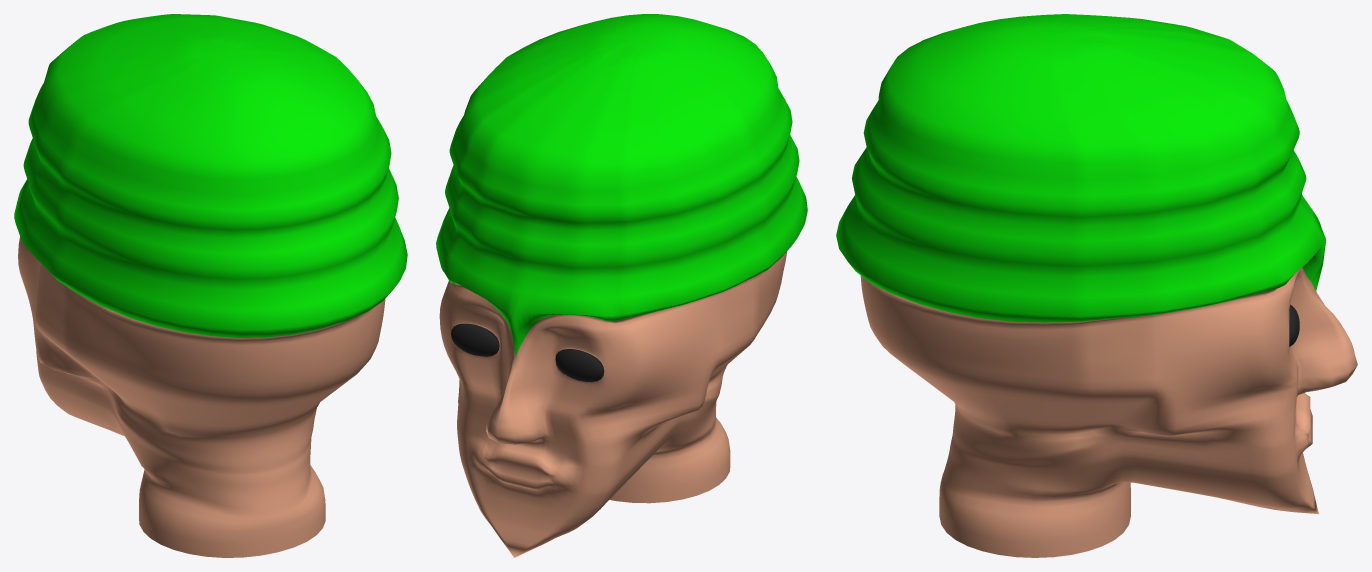
The model's file is TURBANFINAL.fbx.
3 views of the same model, side by side, from view 1: azimuth 30°, elevation 25°; view 2: azimuth 150°, elevation 25°; view 3: azimuth 270°, elevation 25° (orthographic). The views are drawn at different scales.
Visible parts, largest first — view 1: pasted__pasted__pSphere1; view 2: pasted__pasted__pSphere1; view 3: pasted__pasted__pSphere1.
Part boxes in pixels (x1,y1,x2,y2): pasted__pasted__pSphere1: (14,14,407,557); pasted__pasted__pSphere1: (436,14,807,557); pasted__pasted__pSphere1: (836,14,1357,557).
Bounding box in the file's own units: 3.95 × 5.43 × 5.34.
